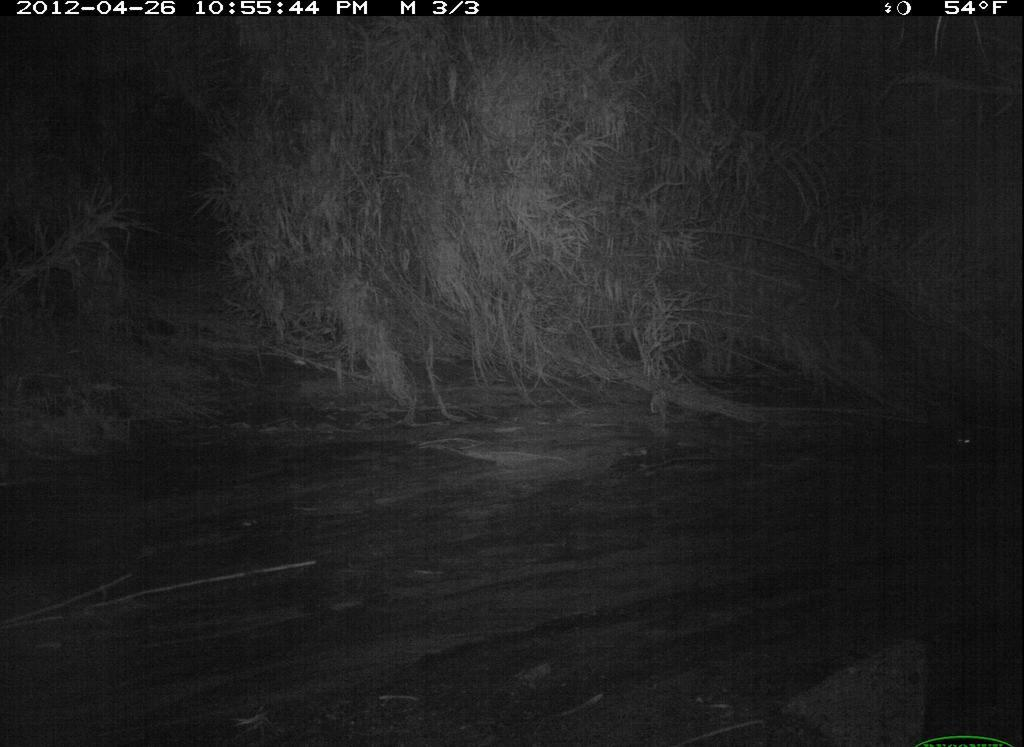opossum: (944, 414, 1023, 470)
